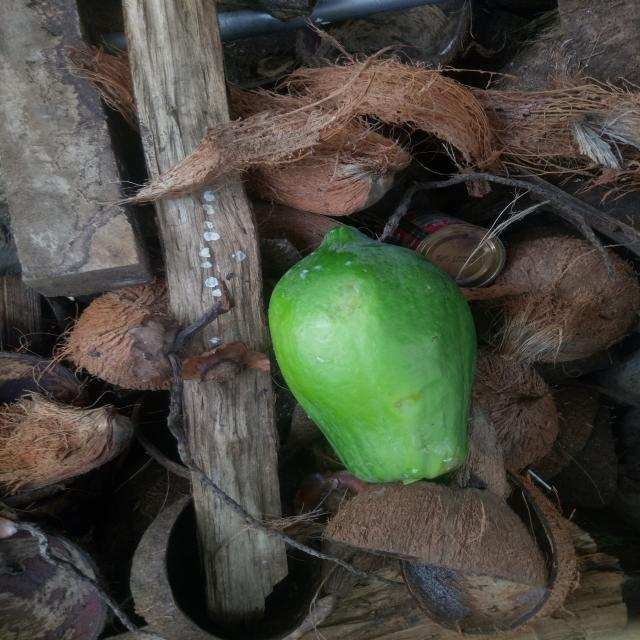Pepaya unrippen: (270, 220, 488, 492)
